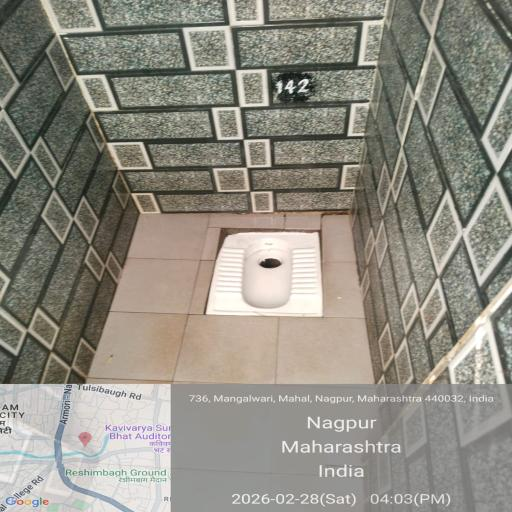clean_floor: (84, 208, 394, 512), (17, 27, 468, 183)
clean_indian: (206, 228, 328, 318)
